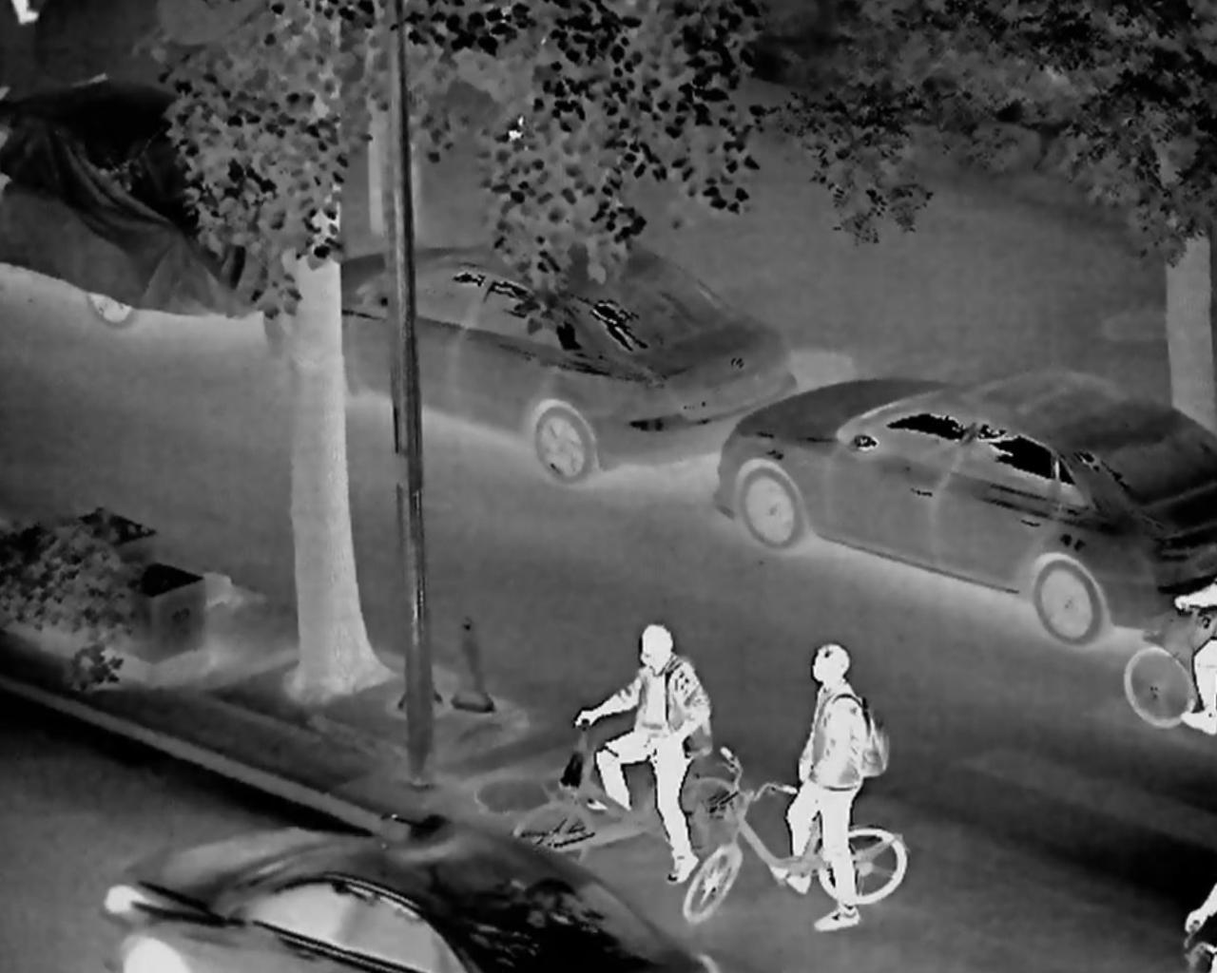person: (763, 627, 880, 956), (562, 624, 709, 874)
